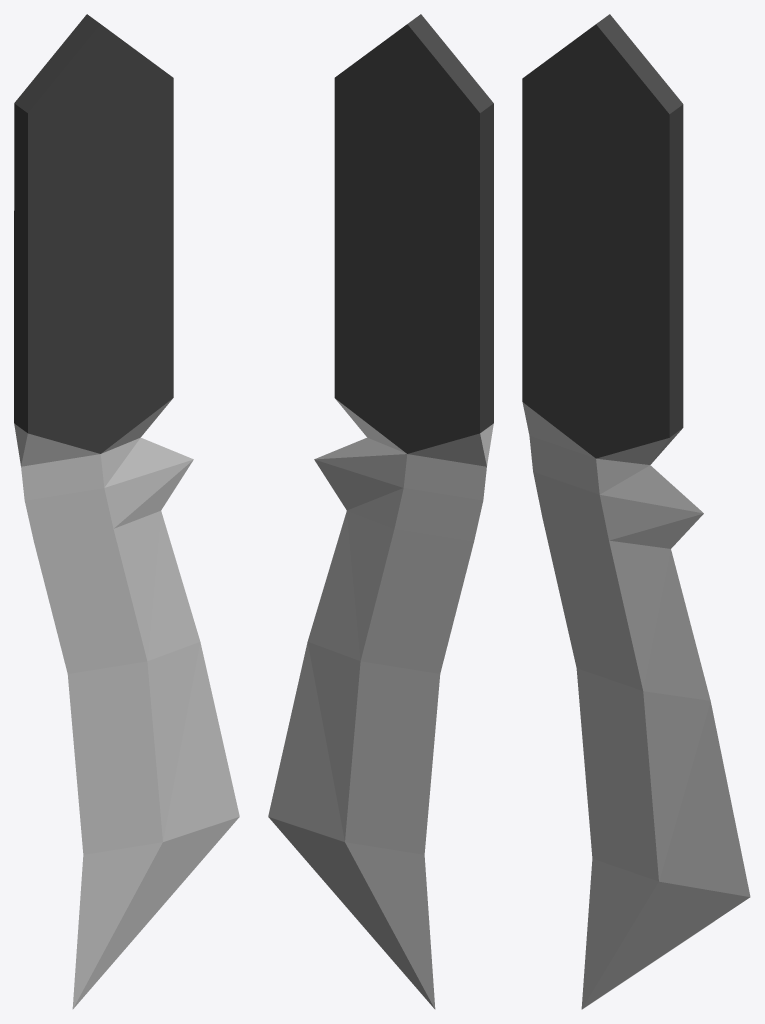
The model's file is Char_GT_ThrowingKnife.FBX.
3 views of the same model, side by side, from view 1: azimuth 30°, elevation 25°; view 2: azimuth 150°, elevation 25°; view 3: azimuth 330°, elevation 25° (orthographic).
Parts seen in each view (by area): view 1: ThrowingKnife; view 2: ThrowingKnife; view 3: ThrowingKnife.
Part boxes in pixels (<box>): ThrowingKnife: <box>14,14,239,1009</box>; ThrowingKnife: <box>268,14,493,1009</box>; ThrowingKnife: <box>522,14,750,1009</box>.
Bounding box in the file's own units: 8.69 × 37.42 × 0.947.
